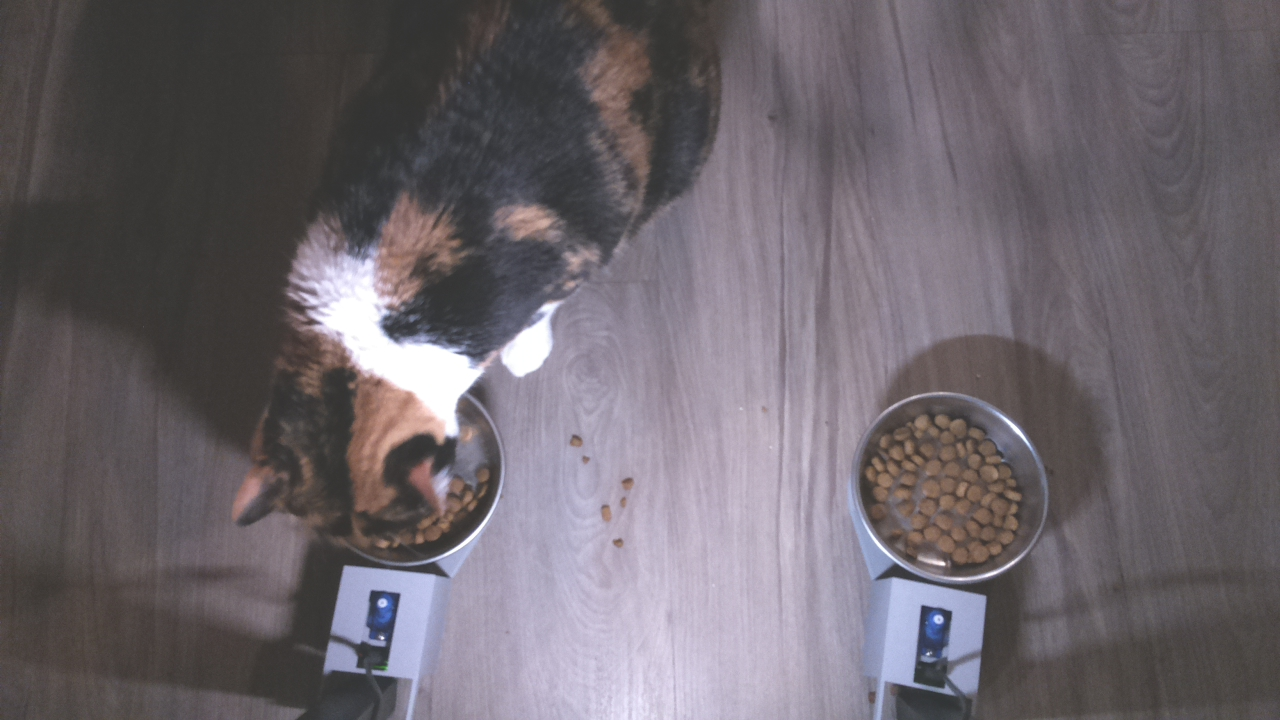bella_eating: (232, 282, 520, 572)
open_bowl: (851, 389, 1050, 590)
